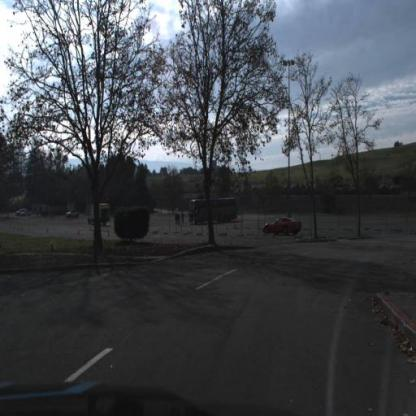car: (260, 213, 304, 236), (64, 206, 80, 222)
truck: (189, 195, 241, 226), (87, 201, 111, 226)
